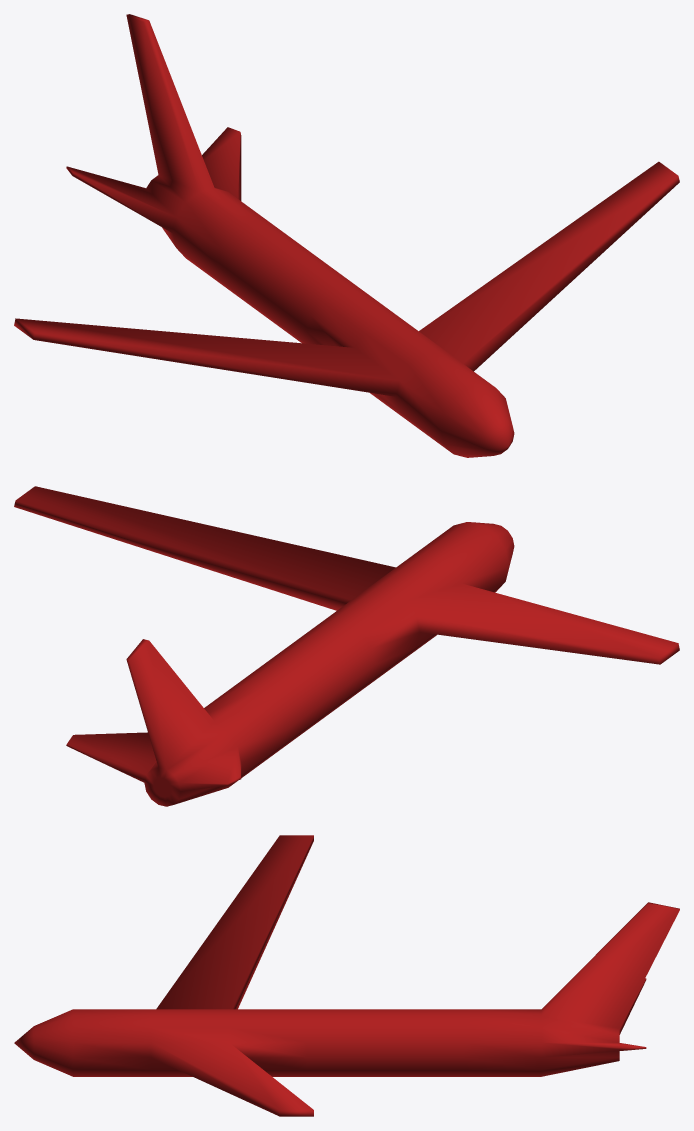
Rendered from air.obj.
3 renders of one model, top to bottom at view 1: azimuth 30°, elevation 25°; view 2: azimuth 150°, elevation 25°; view 3: azimuth 270°, elevation 25°, orthographic. The views are drawn at different scales.
Parts seen in each view (by area): view 1: Cylinder031; view 2: Cylinder031; view 3: Cylinder031.
Part boxes in pixels (x1,y1,x2,y2): Cylinder031: (14, 14, 679, 457); Cylinder031: (14, 486, 679, 806); Cylinder031: (14, 835, 679, 1116).
Bounding box in the file's own units: 385 × 111 × 393.
